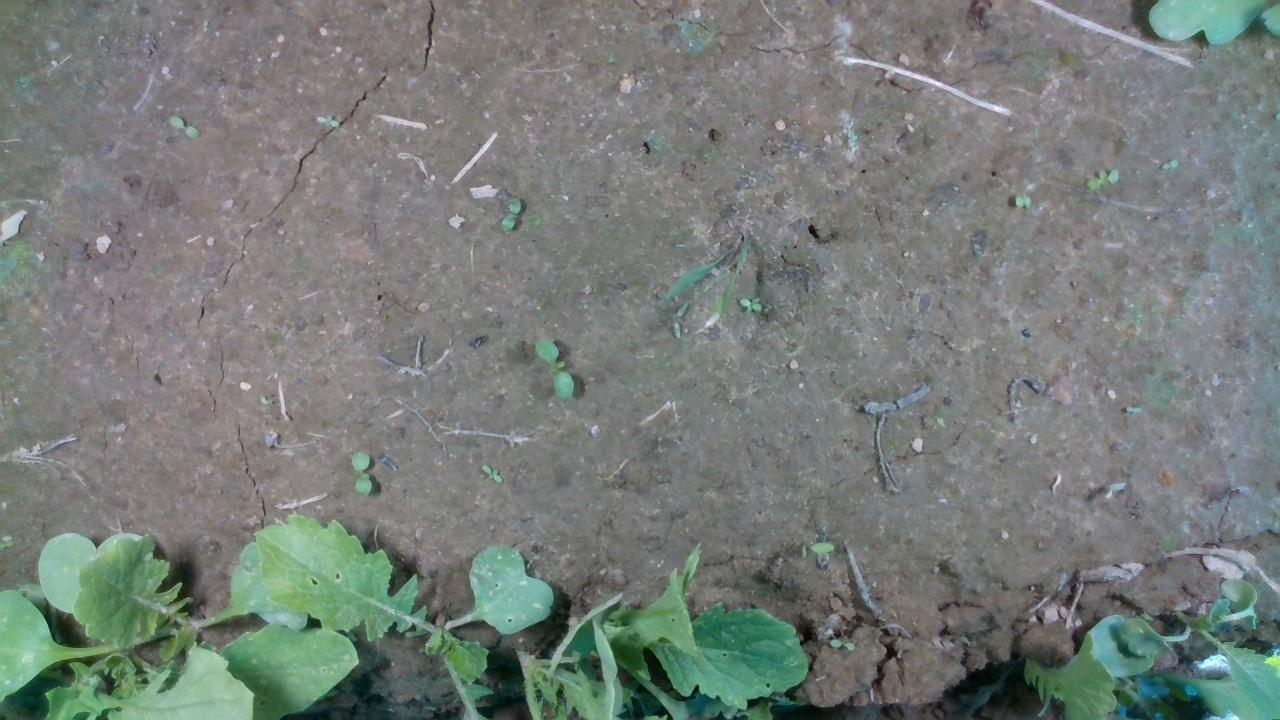weed: (532, 336, 575, 400), (346, 448, 374, 500), (498, 193, 523, 234), (165, 113, 201, 138), (1084, 165, 1118, 190), (669, 302, 688, 339), (479, 461, 503, 485), (736, 294, 762, 315), (313, 111, 341, 130), (1010, 189, 1030, 209), (1158, 157, 1180, 169)
